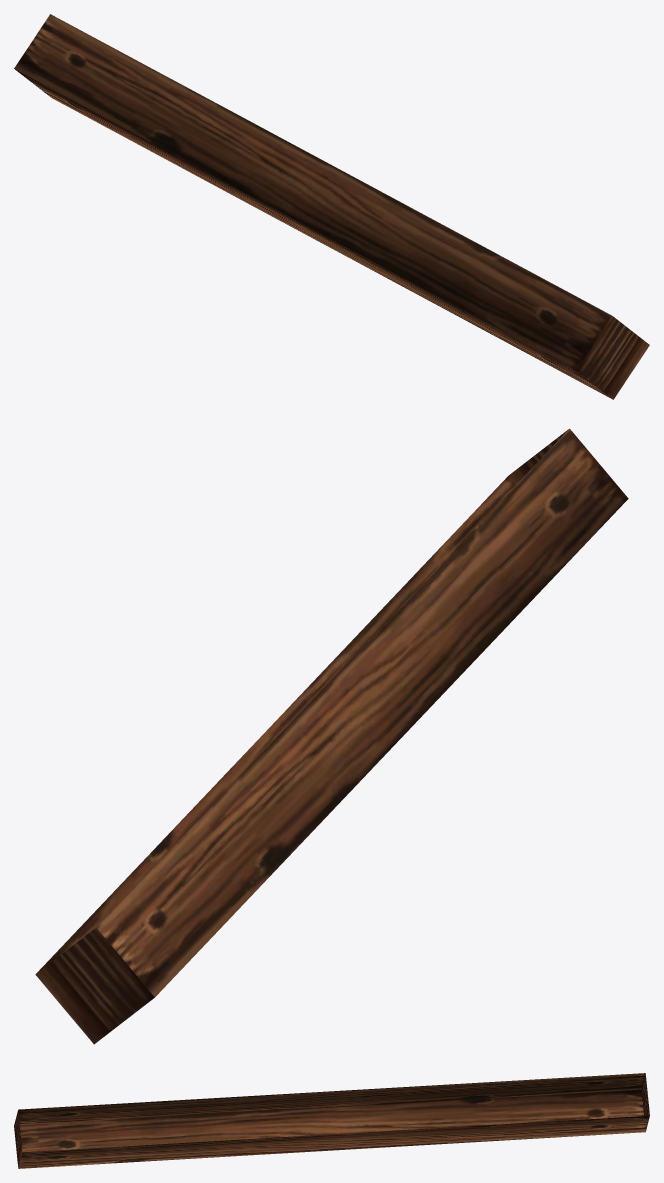
File: OVERHILL_A_01_POST46.fbx
3 views of the same model, one above another, from view 1: azimuth 30°, elevation 25°; view 2: azimuth 150°, elevation 25°; view 3: azimuth 270°, elevation 25° (orthographic). The views are drawn at different scales.
Parts seen in each view (by area): view 1: OVERHILL_A_01_POST46; view 2: OVERHILL_A_01_POST46; view 3: OVERHILL_A_01_POST46.
Boxes of the visible parts, box(x1,y1,x2,y2) form: OVERHILL_A_01_POST46: box(14, 14, 649, 399); OVERHILL_A_01_POST46: box(35, 428, 628, 1044); OVERHILL_A_01_POST46: box(14, 1073, 649, 1168).
Bounding box in the file's own units: 6039 × 2600 × 25056.
1 material, 1 textured.
